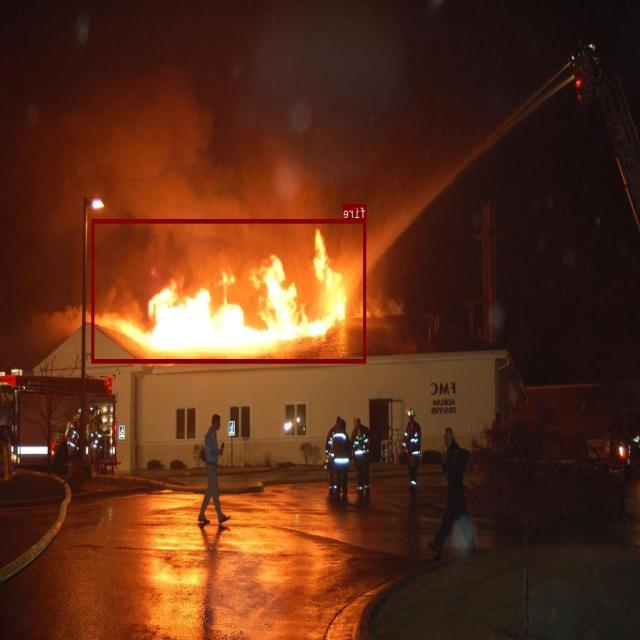fire: (92, 219, 366, 362)
